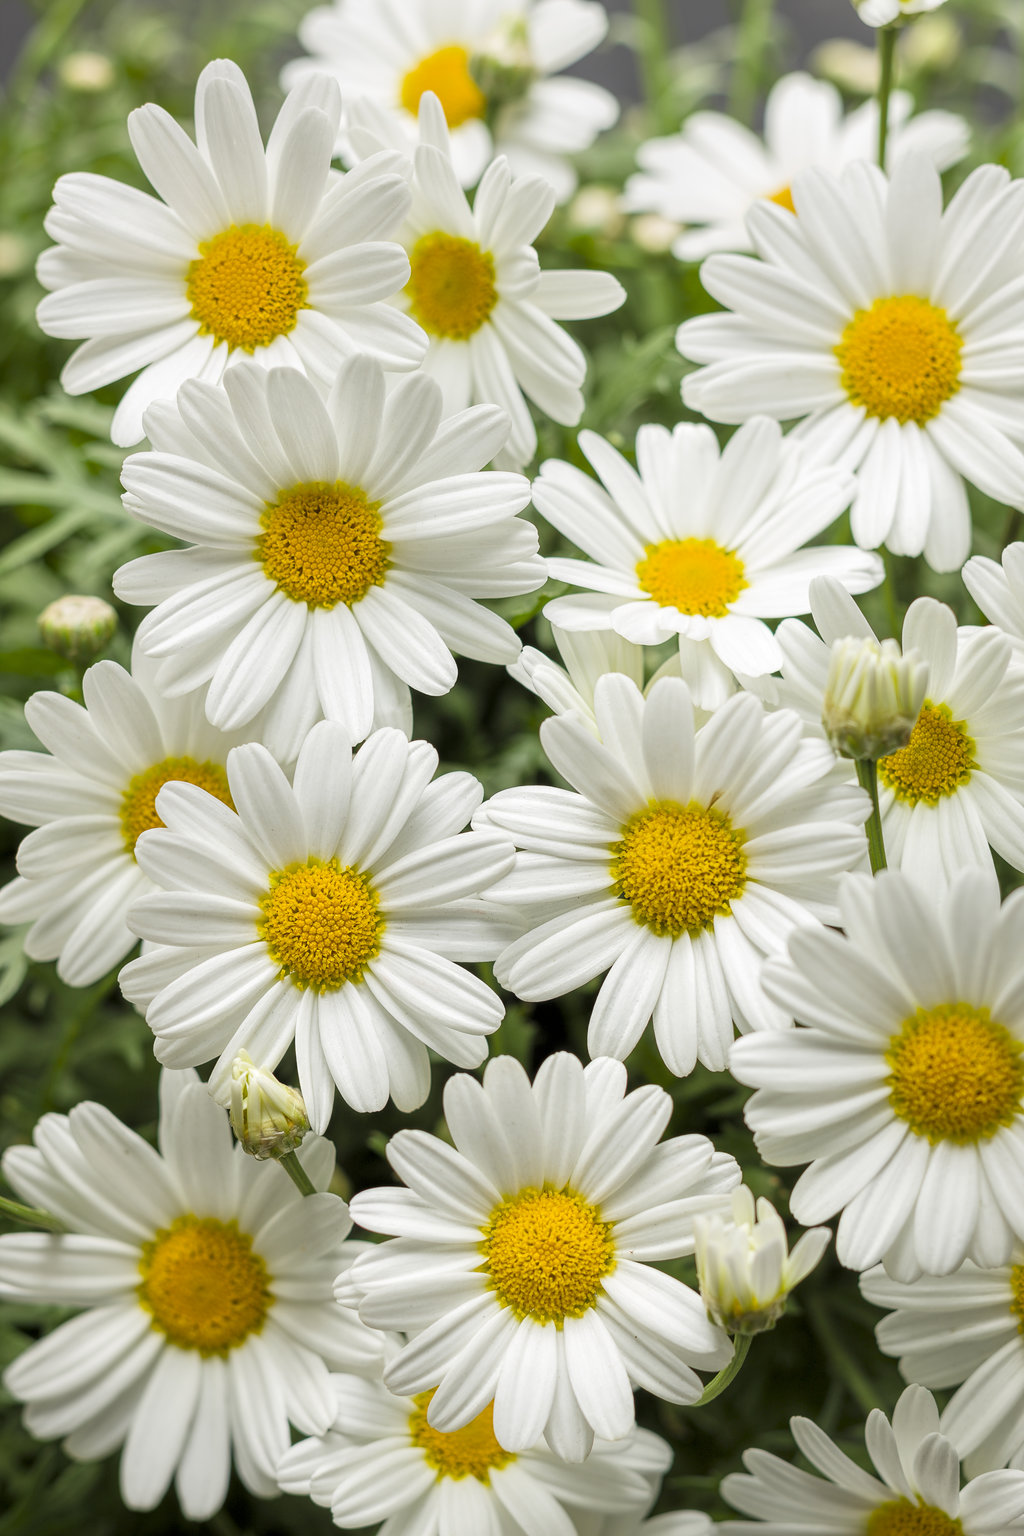Daisy: (347, 1073, 746, 1435), (129, 365, 523, 725), (123, 731, 501, 1093), (486, 685, 846, 1042), (18, 1125, 351, 1496), (711, 167, 1024, 534), (746, 874, 1024, 1253), (539, 429, 849, 671)
